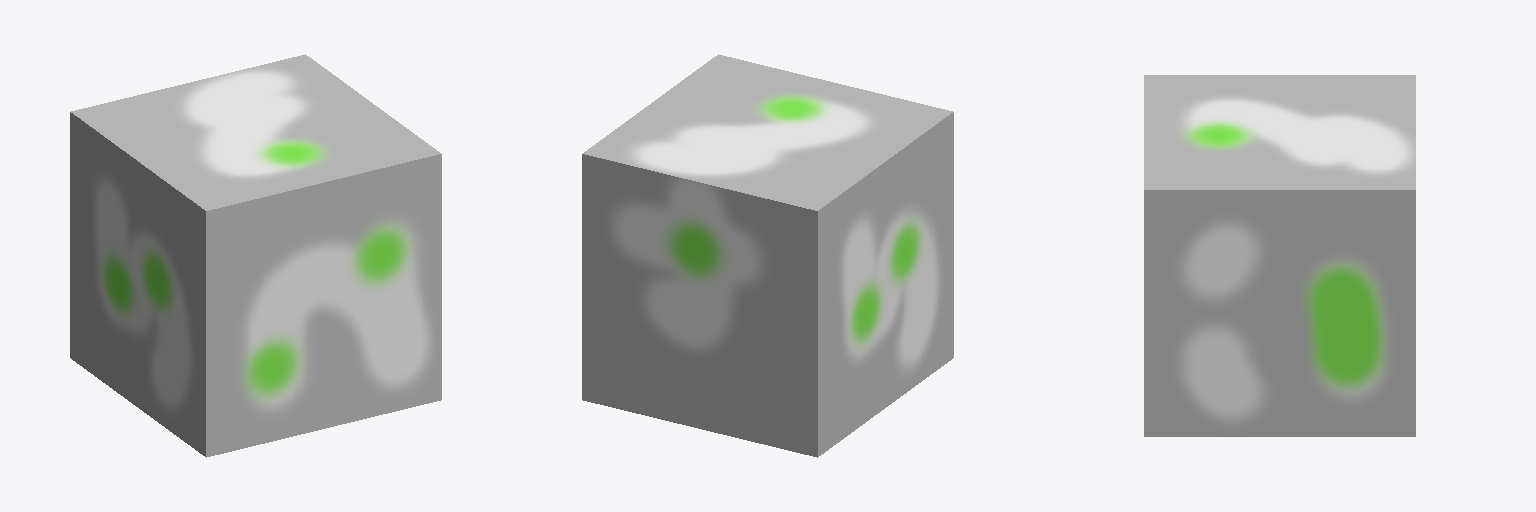
3 renders of one model, left to right at view 1: azimuth 30°, elevation 25°; view 2: azimuth 150°, elevation 25°; view 3: azimuth 270°, elevation 25°, orthographic.
Parts seen in each view (by area): view 1: Cube; view 2: Cube; view 3: Cube.
Boxes of the visible parts, x1,y1,x2,y2 form: Cube: [70, 54, 441, 457]; Cube: [582, 54, 953, 457]; Cube: [1144, 75, 1415, 436].
Size of the model in its own units: 2 by 2 by 2.
Materials: 1 (1 with a texture image).